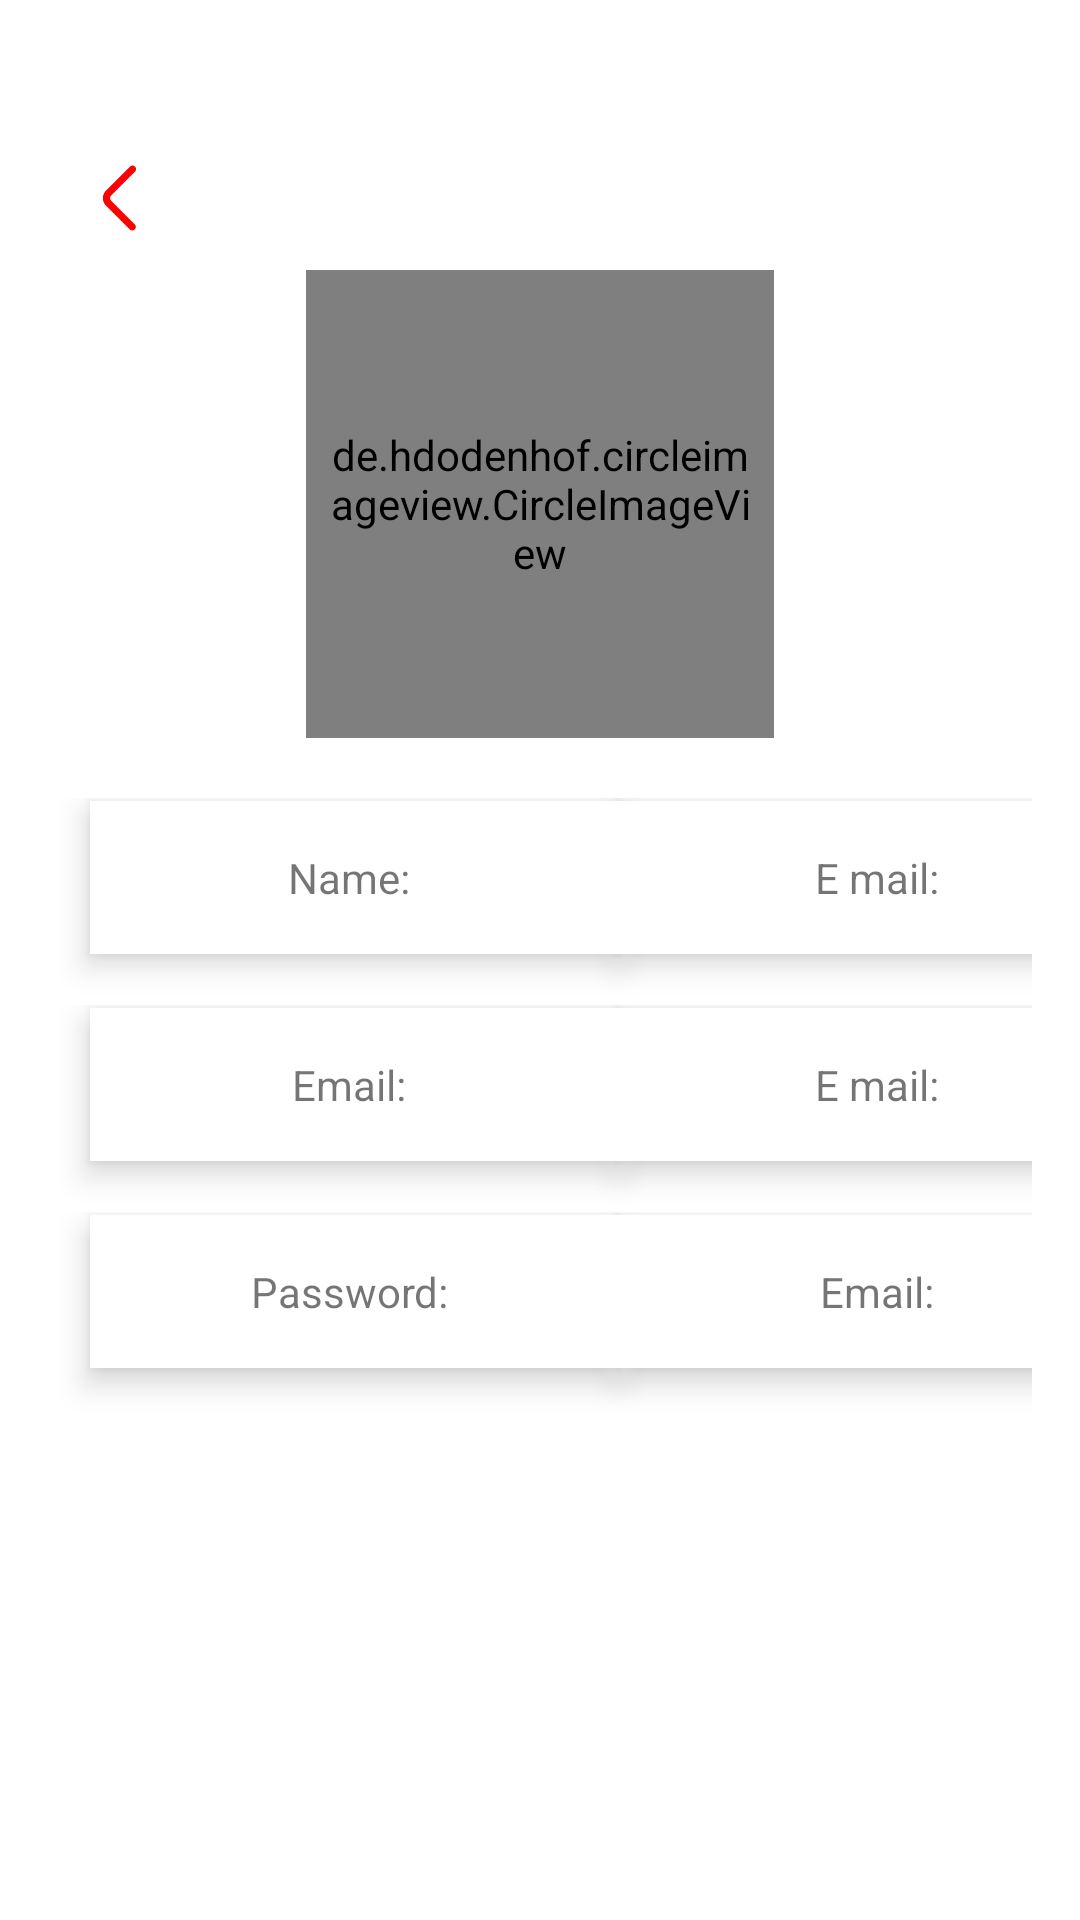

Icon click points for this 1080px×1920px phone screenshot, format [x,y]:
back: [119,198]
